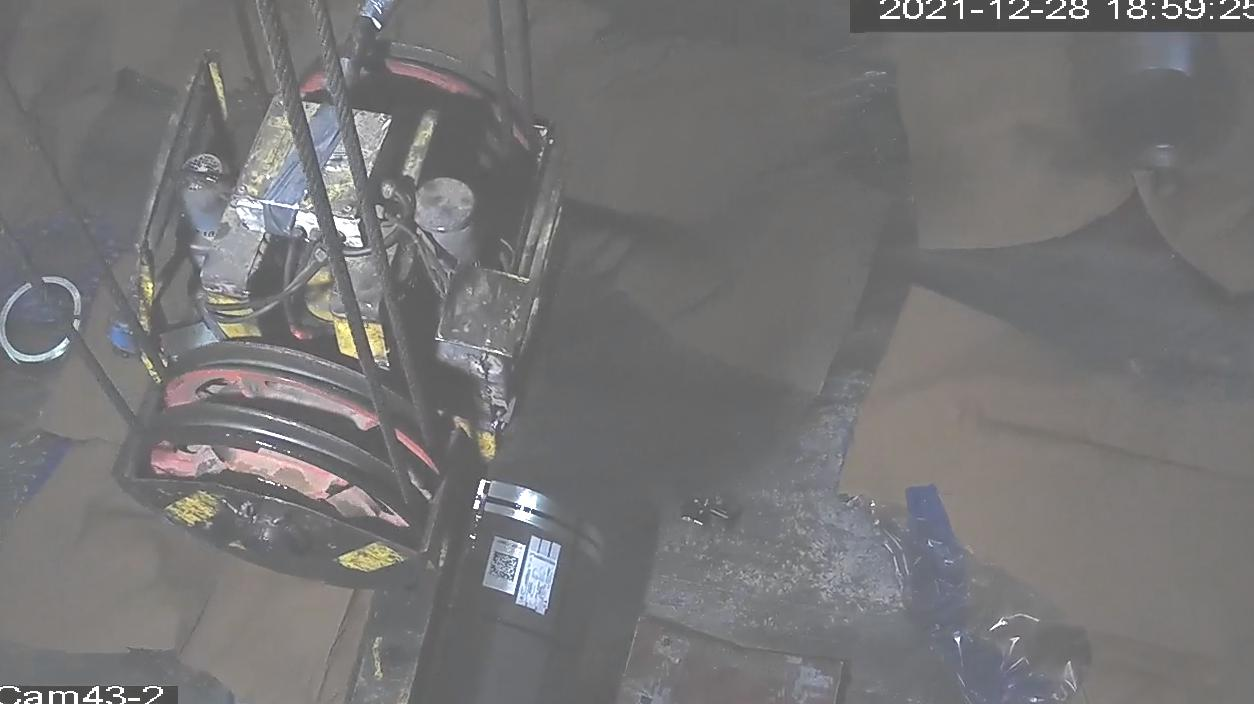data matrix: (487, 548, 522, 586)
